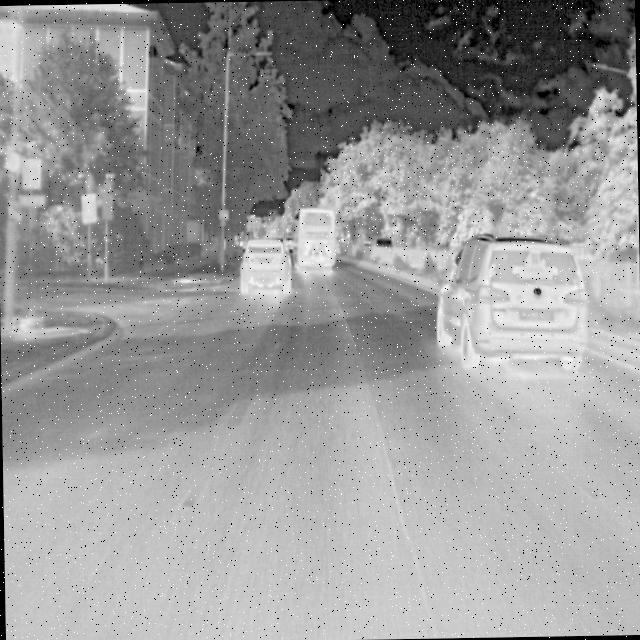Vehicle: (432, 228, 590, 376), (236, 234, 293, 297), (290, 203, 338, 270)
